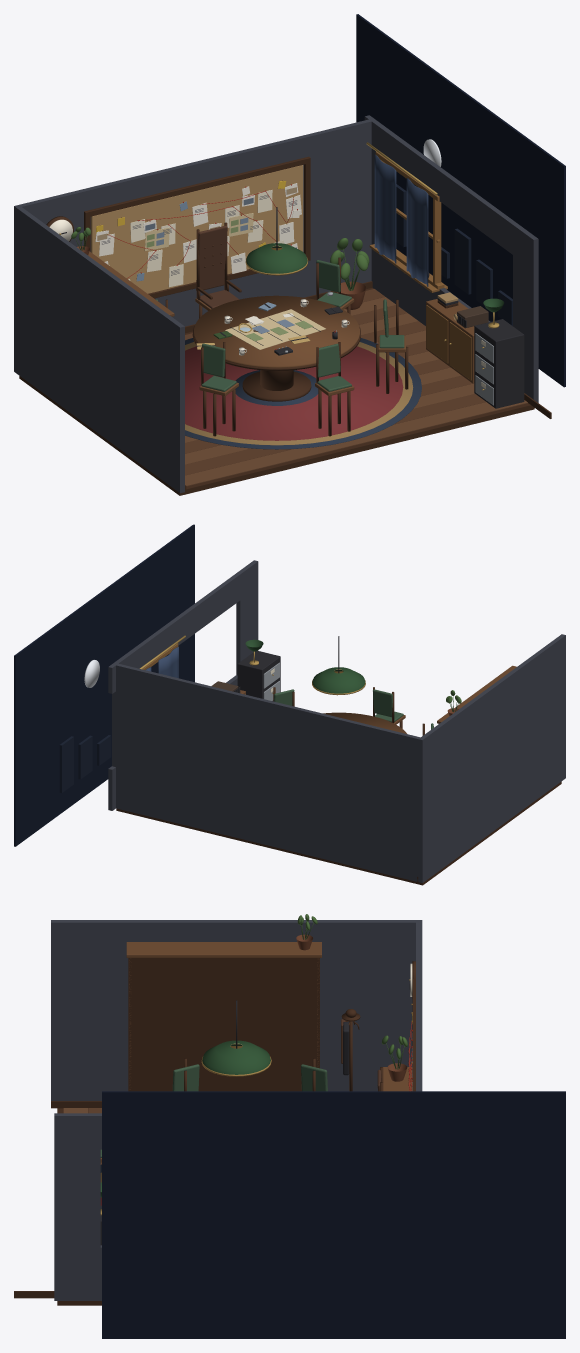
File: detective-room.glb
3 views of the same model, one above another, from view 1: azimuth 30°, elevation 25°; view 2: azimuth 150°, elevation 25°; view 3: azimuth 270°, elevation 25° (orthographic). The views are drawn at different scales.
Visible parts, largest first — view 1: ENV_Wall_Left, ENV_Window_NightSky, ENV_Wall_Back, ENV_EvidenceBoard_Cork, ENV_Rug_Field, ENV_Table_Top, ENV_Wall_Right_High, ENV_Wall_Right_Front, ENV_Floor_Base, ENV_Floor_Plank_00, ENV_FileCab_Body, ENV_Window_Curtain_R (+26 smaller); view 2: ENV_Wall_Back, ENV_Window_NightSky, ENV_Wall_Left, ENV_Wall_Right_High, ENV_Wall_Right_Front, ENV_FileCab_Body, ENV_Floor_Base, ENV_Pendant_Shade, ENV_Window_City_05, ENV_Table_Top, ENV_Window_City_04, ENV_Chair_03_BackPanel (+1 smaller); view 3: ENV_Window_NightSky, ENV_Wall_Left, ENV_Bookshelf_Back, ENV_Wall_Right_Front, ENV_Bookshelf_Top, ENV_Pendant_Shade, ENV_Wall_Back, ENV_Chair_01_BackPanel, ENV_Chair_02_BackPanel.
Boxes of the visible parts, left/top/right/bottom form: ENV_Wall_Left: left=14, top=205, right=184, bottom=493; ENV_Window_NightSky: left=356, top=14, right=565, bottom=387; ENV_Wall_Back: left=19, top=119, right=372, bottom=326; ENV_EvidenceBoard_Cork: left=91, top=165, right=303, bottom=293; ENV_Rug_Field: left=185, top=346, right=403, bottom=440; ENV_Table_Top: left=194, top=295, right=359, bottom=367; ENV_Wall_Right_High: left=364, top=115, right=517, bottom=254; ENV_Wall_Right_Front: left=513, top=223, right=538, bottom=402; ENV_Floor_Base: left=19, top=287, right=534, bottom=495; ENV_Floor_Plank_00: left=185, top=400, right=527, bottom=486; ENV_FileCab_Body: left=474, top=319, right=524, bottom=408; ENV_Window_Curtain_R: left=374, top=154, right=396, bottom=263; ENV_Wall_Back: left=114, top=663, right=420, bottom=882; ENV_Window_NightSky: left=14, top=524, right=194, bottom=846; ENV_Wall_Left: left=418, top=634, right=565, bottom=882; ENV_Wall_Right_High: left=108, top=573, right=240, bottom=693; ENV_Wall_Right_Front: left=236, top=560, right=258, bottom=675; ENV_FileCab_Body: left=237, top=650, right=280, bottom=701; ENV_Floor_Base: left=116, top=781, right=561, bottom=885; ENV_Pendant_Shade: left=312, top=667, right=365, bottom=693; ENV_Window_City_05: left=59, top=736, right=73, bottom=792; ENV_Table_Top: left=323, top=712, right=406, bottom=733; ENV_Window_City_04: left=78, top=735, right=92, bottom=779; ENV_Chair_03_BackPanel: left=373, top=689, right=392, bottom=717; ENV_Window_NightSky: left=102, top=1091, right=565, bottom=1338; ENV_Wall_Left: left=51, top=920, right=422, bottom=1100; ENV_Bookshelf_Back: left=128, top=958, right=319, bottom=1091; ENV_Wall_Right_Front: left=54, top=1113, right=100, bottom=1300; ENV_Bookshelf_Top: left=126, top=942, right=321, bottom=957; ENV_Pendant_Shade: left=202, top=1040, right=270, bottom=1074; ENV_Wall_Back: left=416, top=921, right=422, bottom=1091; ENV_Chair_01_BackPanel: left=301, top=1064, right=327, bottom=1091; ENV_Chair_02_BackPanel: left=172, top=1064, right=199, bottom=1091.
Bounding box in the file's own units: 8.52 × 4.4 × 8.92.
